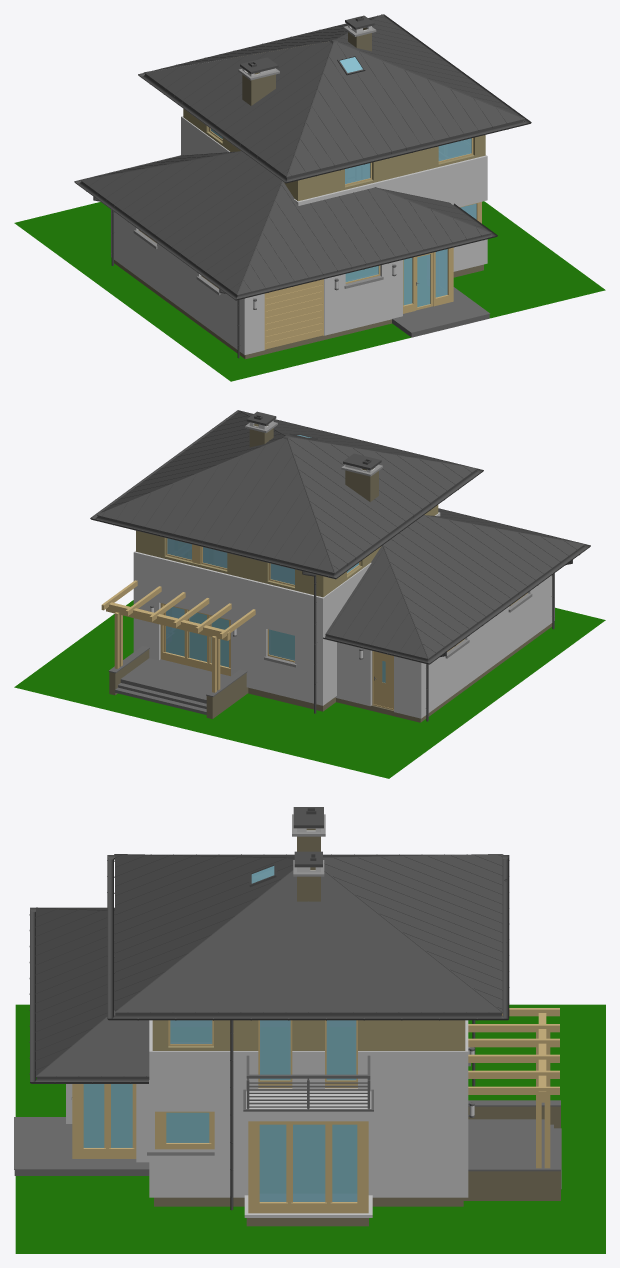
The model's file is Casa.glb.
3 renders of one model, top to bottom at view 1: azimuth 30°, elevation 25°; view 2: azimuth 150°, elevation 25°; view 3: azimuth 270°, elevation 25°, orthographic. The views are drawn at different scales.
Parts seen in each view (by area): view 1: Bambo_House, Plane; view 2: Bambo_House, Plane; view 3: Bambo_House, Plane.
Part boxes in pixels (x1,y1,x2,y2): Bambo_House: [74, 14, 531, 359]; Plane: [14, 201, 605, 381]; Bambo_House: [90, 410, 590, 722]; Plane: [14, 600, 605, 778]; Bambo_House: [14, 807, 561, 1226]; Plane: [15, 1004, 605, 1253].
Size of the model in its own units: 6.26 by 3.6 by 6.29.
